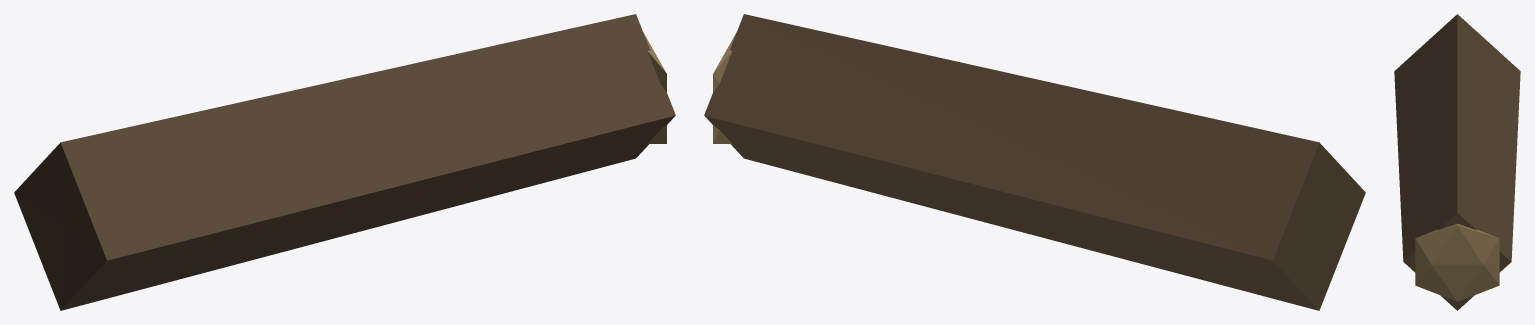
The model's file is fallen_log-far.glb.
The picture shows the model from 3 angles, left to right: view 1: azimuth 30°, elevation 25°; view 2: azimuth 150°, elevation 25°; view 3: azimuth 270°, elevation 25°; orthographic projection. The views are drawn at different scales.
Visible parts, largest first — view 1: world-scenery/fallen_log-far; view 2: world-scenery/fallen_log-far; view 3: world-scenery/fallen_log-far.
Part boxes in pixels (x1,y1,x2,y2): world-scenery/fallen_log-far: (14,14,675,310); world-scenery/fallen_log-far: (704,14,1365,310); world-scenery/fallen_log-far: (1394,14,1520,310).
Bounding box in the file's own units: 2.64 × 0.728 × 0.728.
